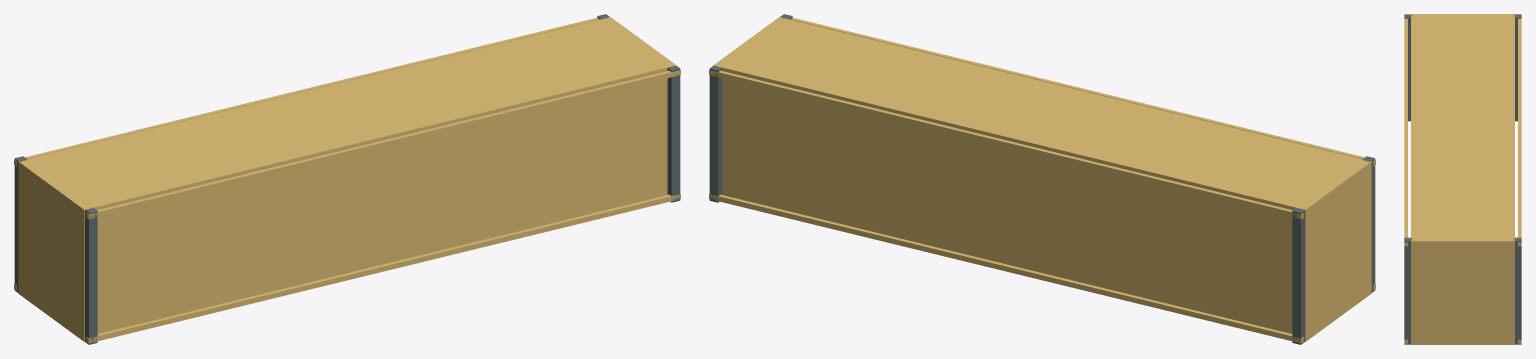
The picture shows the model from 3 angles, left to right: view 1: azimuth 30°, elevation 25°; view 2: azimuth 150°, elevation 25°; view 3: azimuth 270°, elevation 25°; orthographic projection. The views are drawn at different scales.
Bounding box in the file's own units: 12.2 × 2.6 × 2.66.
